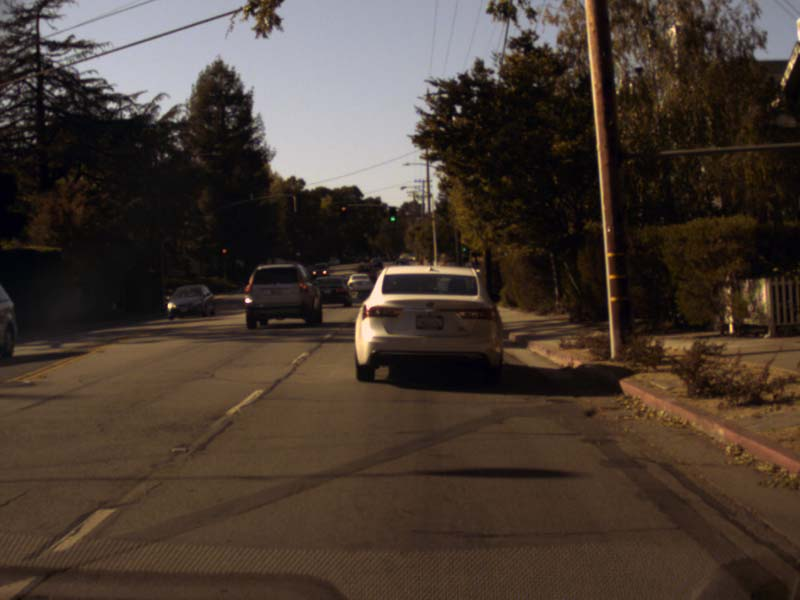Green: (389, 207, 396, 222)
Red: (340, 205, 347, 220), (221, 248, 226, 264)
